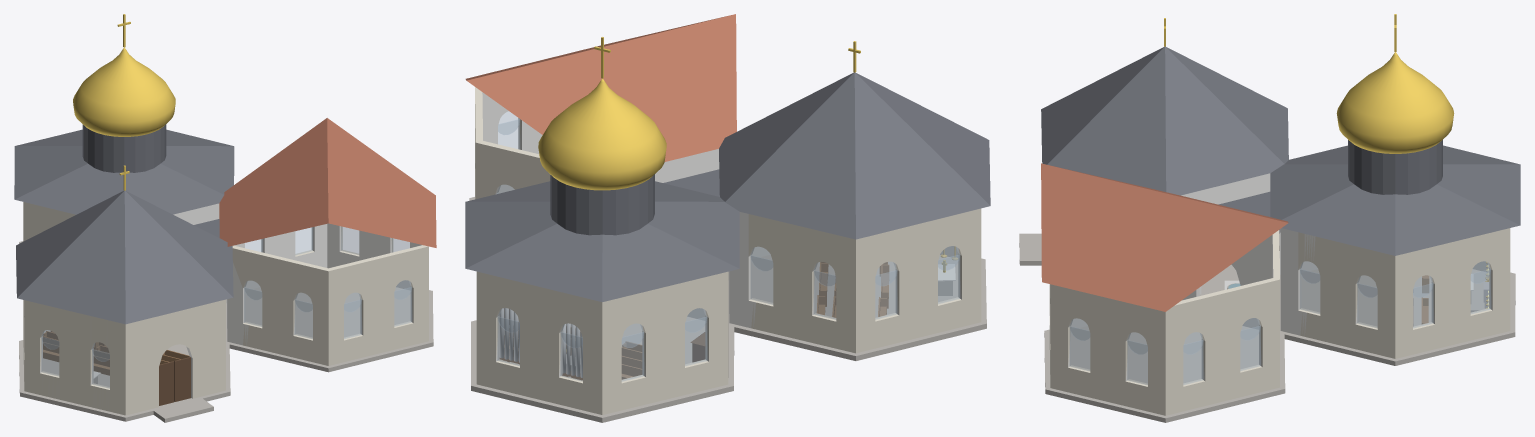
Rendered from church-v2.glb.
3 views of the same model, side by side, from view 1: azimuth 30°, elevation 25°; view 2: azimuth 150°, elevation 25°; view 3: azimuth 270°, elevation 25° (orthographic). The views are drawn at different scales.
Visible parts, largest first — view 1: Walls_anglican, Roof_rom, Roof_ang, Walls_roman, Roof_orth, Floor, Dome, Glass, Walls_orthodox, Door, Pews; view 2: Roof_rom, Roof_orth, Walls_orthodox, Walls_roman, Roof_ang, Glass, Dome, Floor, Walls_anglican, Organ_pipes, Pews, Roof_mid; view 3: Roof_rom, Walls_anglican, Roof_ang, Roof_orth, Walls_orthodox, Floor, Dome, Glass, Walls_roman, Roof_mid.
Part boxes in pixels (x1=…): Walls_anglican: x1=226, y1=223, x2=428, y2=365; Roof_rom: x1=16, y1=190, x2=233, y2=324; Roof_ang: x1=219, y1=118, x2=436, y2=247; Walls_roman: x1=23, y1=299, x2=225, y2=415; Roof_orth: x1=14, y1=124, x2=234, y2=214; Floor: x1=19, y1=241, x2=433, y2=422; Dome: x1=73, y1=47, x2=175, y2=136; Glass: x1=41, y1=226, x2=412, y2=388; Walls_orthodox: x1=23, y1=202, x2=219, y2=241; Door: x1=159, y1=357, x2=190, y2=405; Pews: x1=43, y1=331, x2=189, y2=375; Roof_rom: x1=719, y1=72, x2=990, y2=239; Roof_orth: x1=465, y1=174, x2=739, y2=302; Walls_orthodox: x1=476, y1=271, x2=728, y2=414; Walls_roman: x1=728, y1=208, x2=981, y2=353; Roof_ang: x1=465, y1=14, x2=736, y2=161; Glass: x1=496, y1=111, x2=960, y2=381; Dome: x1=538, y1=78, x2=666, y2=190; Floor: x1=469, y1=197, x2=986, y2=422; Walls_anglican: x1=475, y1=87, x2=719, y2=199; Organ_pipes: x1=499, y1=308, x2=582, y2=377; Pews: x1=504, y1=262, x2=889, y2=379; Roof_mid: x1=663, y1=169, x2=719, y2=196; Roof_rom: x1=1041, y1=46, x2=1288, y2=195; Walls_anglican: x1=1049, y1=230, x2=1279, y2=415; Roof_ang: x1=1041, y1=163, x2=1288, y2=311; Roof_orth: x1=1270, y1=140, x2=1520, y2=255; Walls_orthodox: x1=1280, y1=228, x2=1510, y2=358; Floor: x1=1019, y1=233, x2=1515, y2=422; Dome: x1=1336, y1=52, x2=1454, y2=153; Glass: x1=1069, y1=261, x2=1490, y2=384; Walls_roman: x1=1181, y1=173, x2=1280, y2=294; Roof_mid: x1=1218, y1=191, x2=1280, y2=250.
Size of what is drawn, in the model's own units: 32.43 by 19.7 by 29.45.
